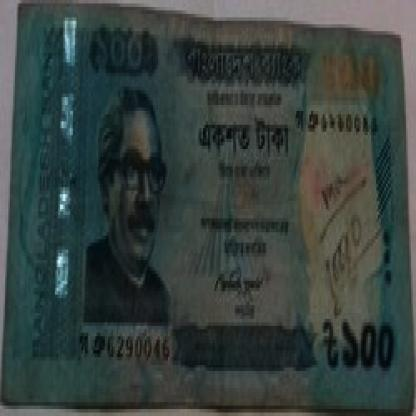one hundred taka: (340, 312, 404, 378), (318, 42, 383, 104), (93, 21, 155, 83)
